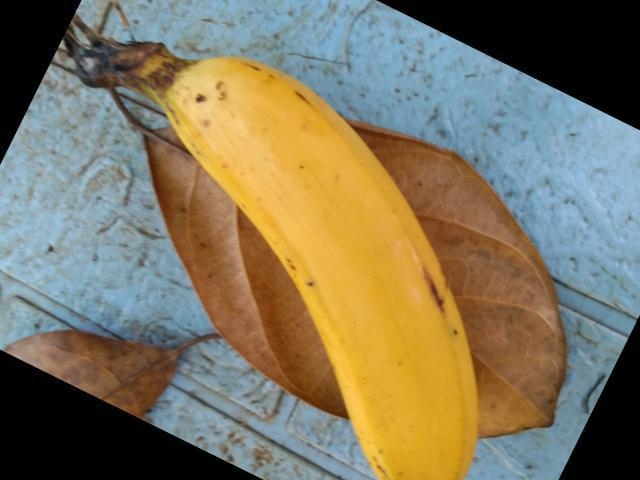freshripe: (185, 54, 506, 479)
